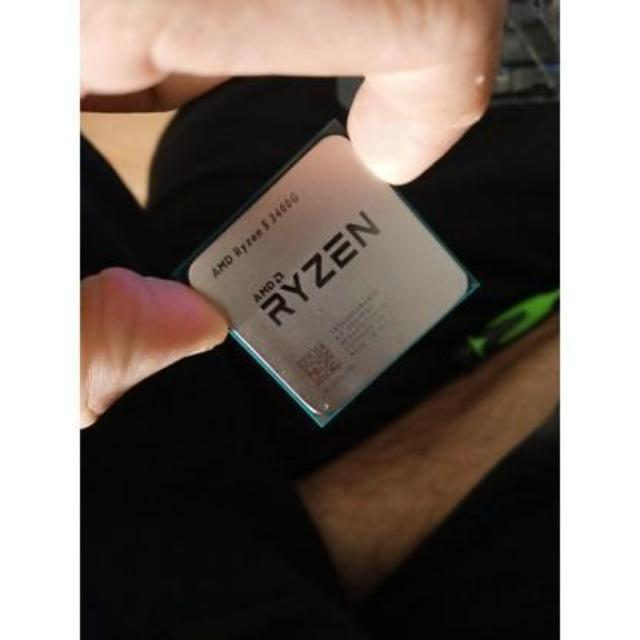CPU: (188, 133, 466, 421)
